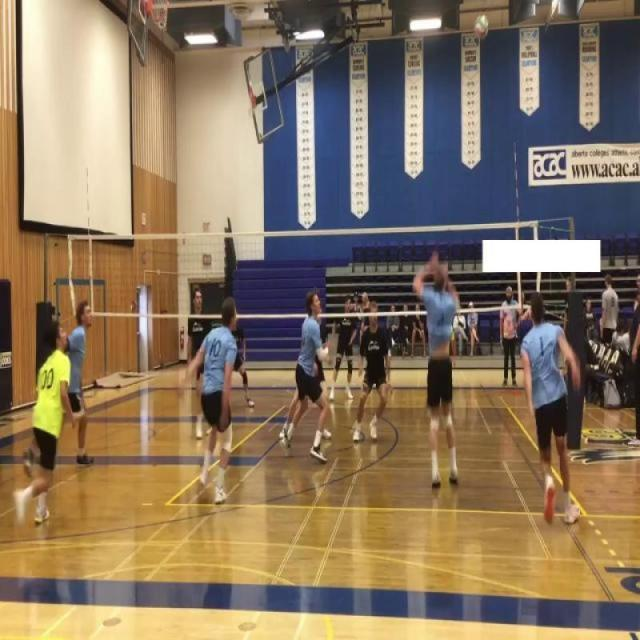volleyball: (474, 13, 489, 42)
